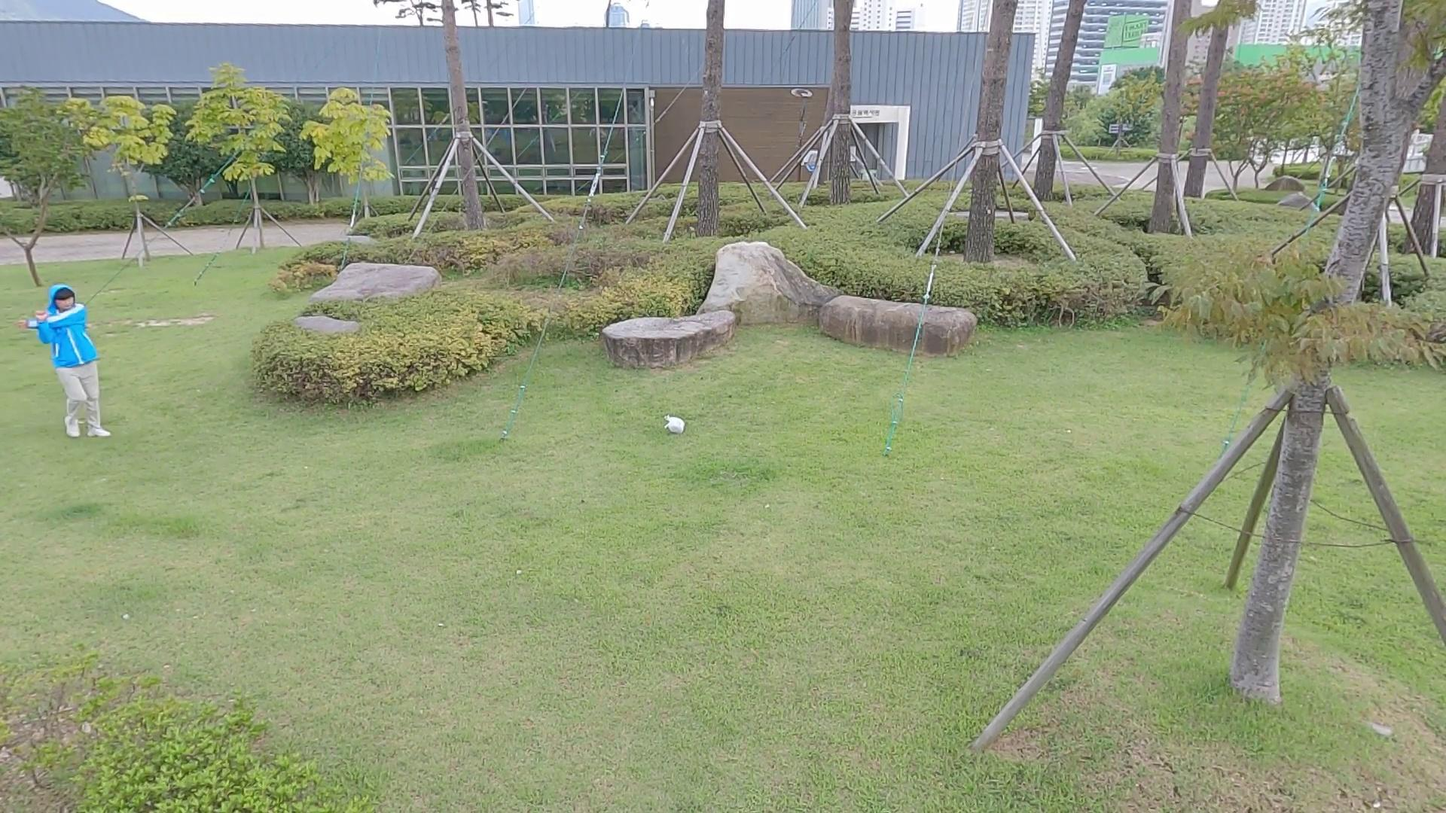person: (15, 283, 115, 441)
trash: (663, 414, 687, 435)
